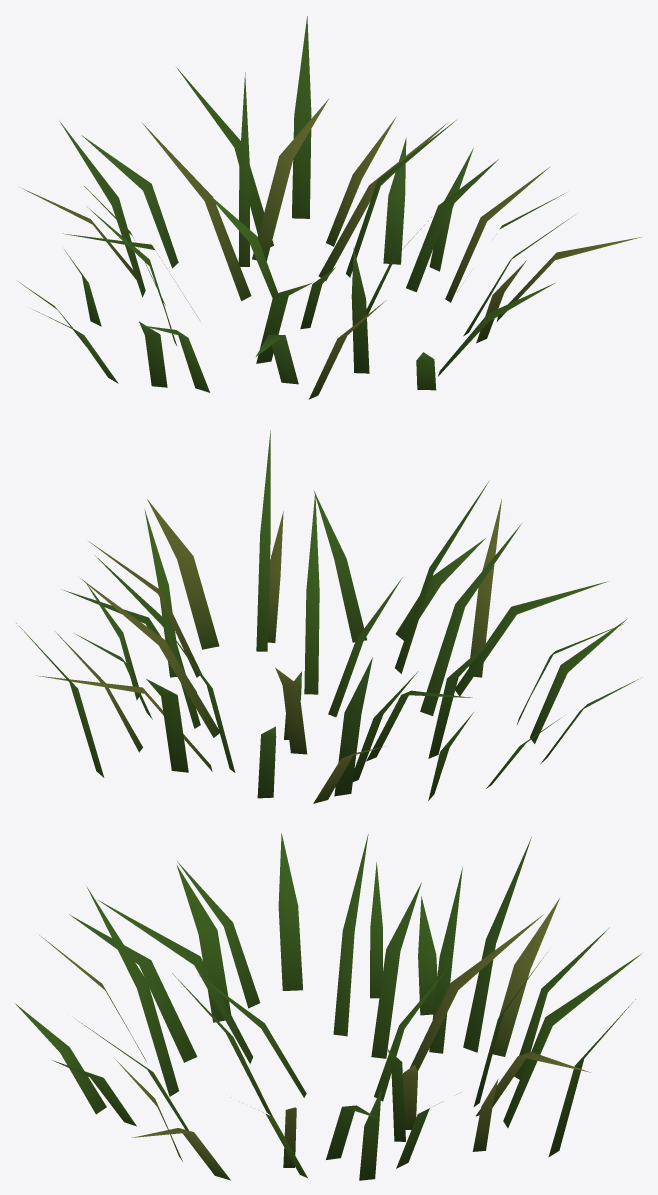
Rendered from meadow_turf.glb.
3 views of the same model, one above another, from view 1: azimuth 30°, elevation 25°; view 2: azimuth 150°, elevation 25°; view 3: azimuth 270°, elevation 25° (orthographic). The views are drawn at different scales.
Visible parts, largest first — view 1: meadow_turf; view 2: meadow_turf; view 3: meadow_turf.
Boxes of the visible parts, box(x1,y1,x2,y2) form: meadow_turf: box(18, 16, 641, 399); meadow_turf: box(16, 430, 642, 803); meadow_turf: box(15, 833, 641, 1180).
Bounding box in the file's own units: 0.5088 × 0.1494 × 0.4642.
